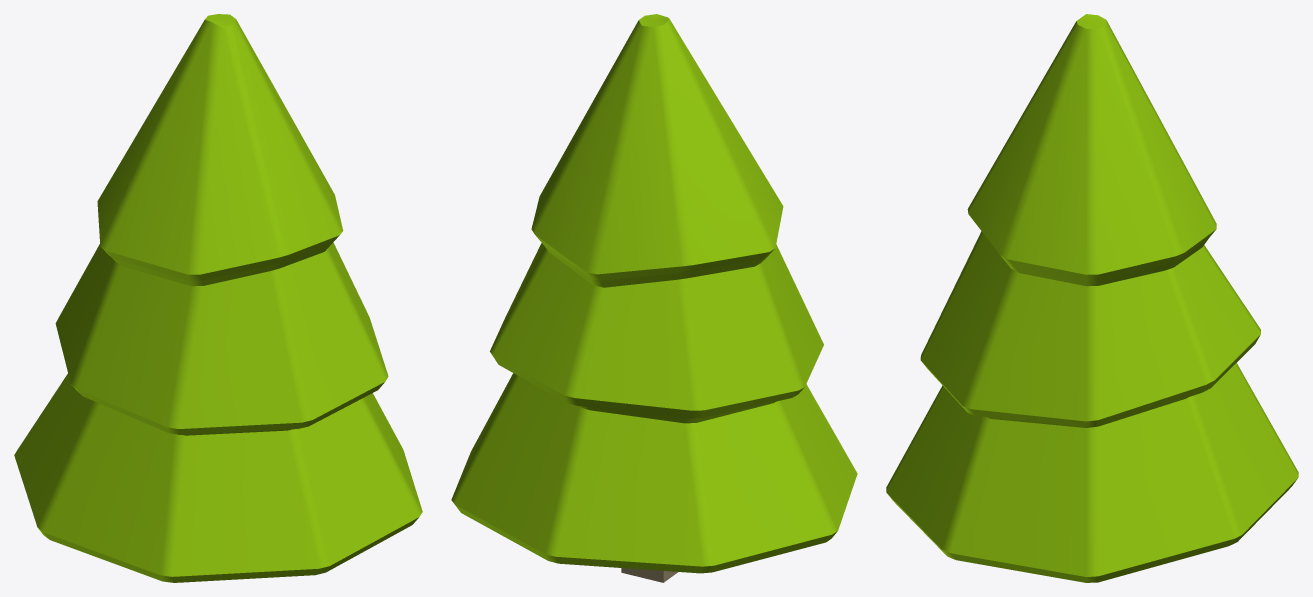
File: pine_skewed_2_bevel.fbx
3 renders of one model, left to right at view 1: azimuth 30°, elevation 25°; view 2: azimuth 150°, elevation 25°; view 3: azimuth 270°, elevation 25°, orthographic.
Visible parts, largest first — view 1: pine_skewed_2_bevel; view 2: pine_skewed_2_bevel; view 3: pine_skewed_2_bevel.
Boxes of the visible parts, bbox=[...] form: pine_skewed_2_bevel: bbox=[14, 14, 422, 582]; pine_skewed_2_bevel: bbox=[451, 14, 857, 582]; pine_skewed_2_bevel: bbox=[886, 14, 1298, 582].
Size of the model in its own units: 177 by 259 by 178.
